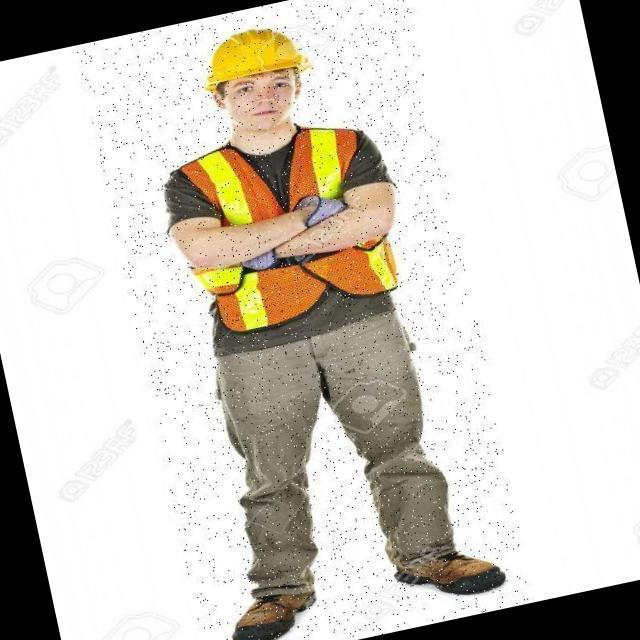boots: (390, 540, 509, 610), (222, 583, 324, 640)
helmet: (192, 19, 314, 95)
vest: (168, 113, 404, 340)
